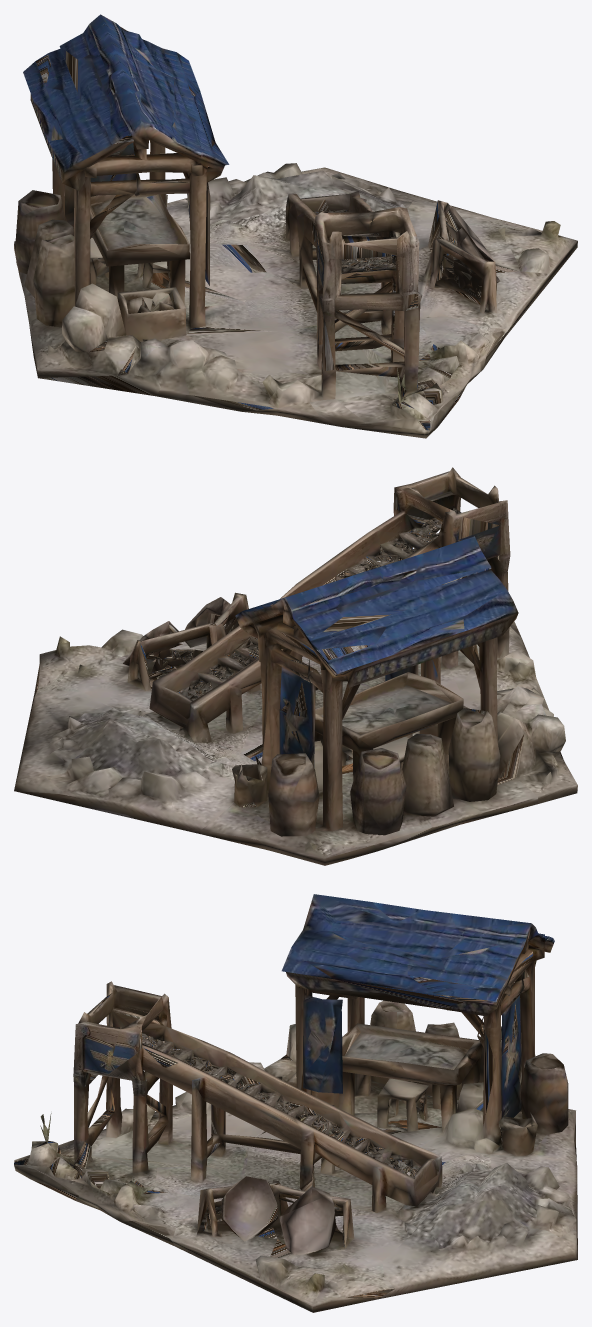
Rendered from gold_panning_0.glb.
3 renders of one model, top to bottom at view 1: azimuth 30°, elevation 25°; view 2: azimuth 150°, elevation 25°; view 3: azimuth 270°, elevation 25°, orthographic. The views are drawn at different scales.
Visible parts, largest first — view 1: tripo_node_7c43517d-db10-4075-b0e3-a94fc40092f9; view 2: tripo_node_7c43517d-db10-4075-b0e3-a94fc40092f9; view 3: tripo_node_7c43517d-db10-4075-b0e3-a94fc40092f9.
Part boxes in pixels (x1,y1,x2,y2): tripo_node_7c43517d-db10-4075-b0e3-a94fc40092f9: (14,14,577,438); tripo_node_7c43517d-db10-4075-b0e3-a94fc40092f9: (14,467,577,865); tripo_node_7c43517d-db10-4075-b0e3-a94fc40092f9: (14,894,577,1312).
Bounding box in the file's own units: 0.9791 × 0.4111 × 0.9388.
Materials: 1 (1 with a texture image).
